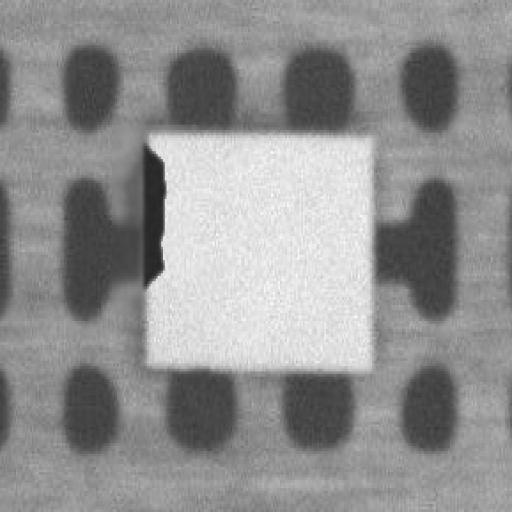DIE_BROKEN: (204, 89, 252, 202)
